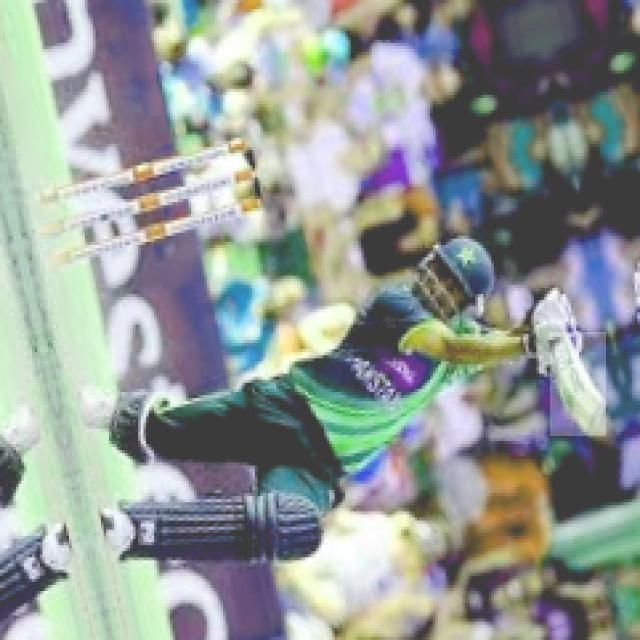bat: (549, 333, 610, 438)
toe: (582, 398, 610, 438)
